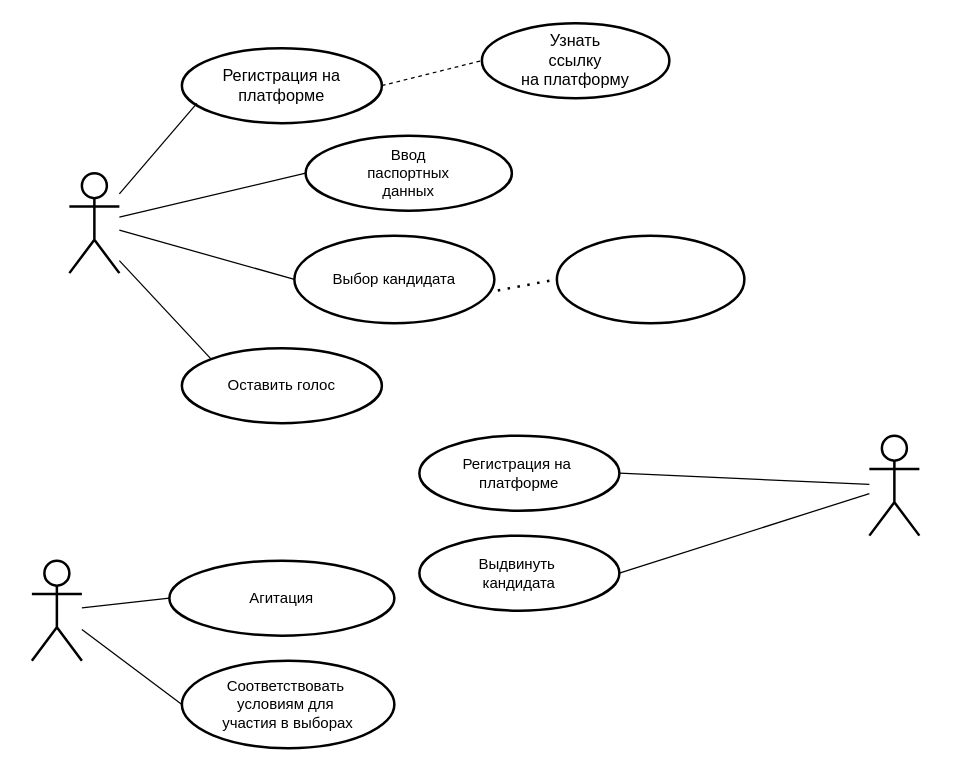
The diagram is 970 pixels wide and 770 high, and some of its shapes have lost their labels. The shapes that lost their labels are listed below. From the top down, each one's centre as x and y in pixels, then its label:
At pixel 94 222: "Избиратель".
At pixel 650 279: "Получение сведений о кандидате".
At pixel 894 485: "Администратор".
At pixel 56 610: "Кандидат".
